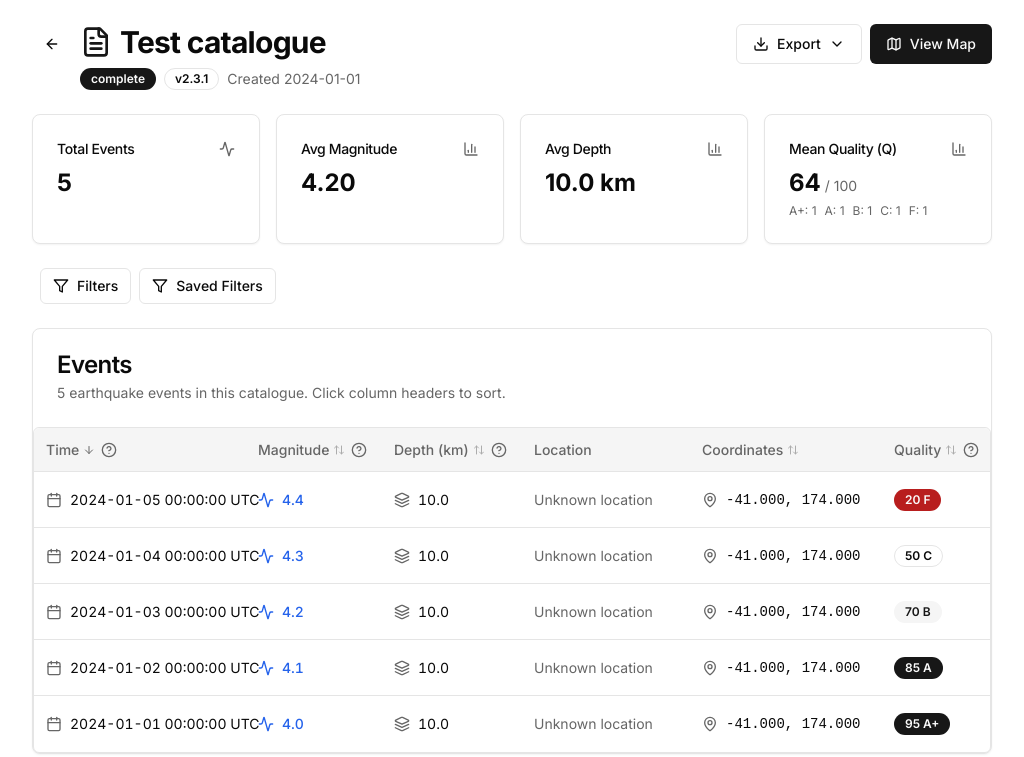
Test: FEATURE: minQuality filter narrows the event table › applying "Minimum Quality Score" hides events below the threshold
Expected: the text "Test catalogue" is shown, [120,24,326,60]
Expected: the heading "Mean Quality (Q)" is shown, [789,139,897,159]
Click the button "Filters".
click(86, 286)  # box [40,268,131,304]
(page scrolled)
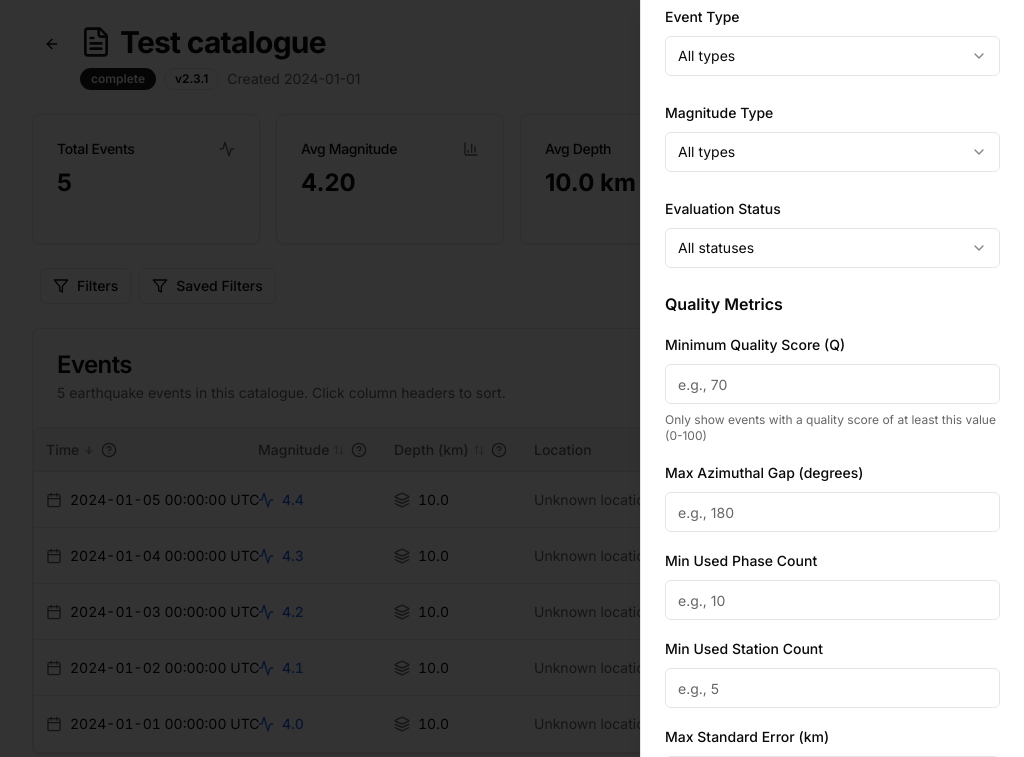
Type "60" into the number field labelled "Minimum Quality Score (Q)".
click(832, 384); type("60")  # box [665,364,1000,404]
(page scrolled)
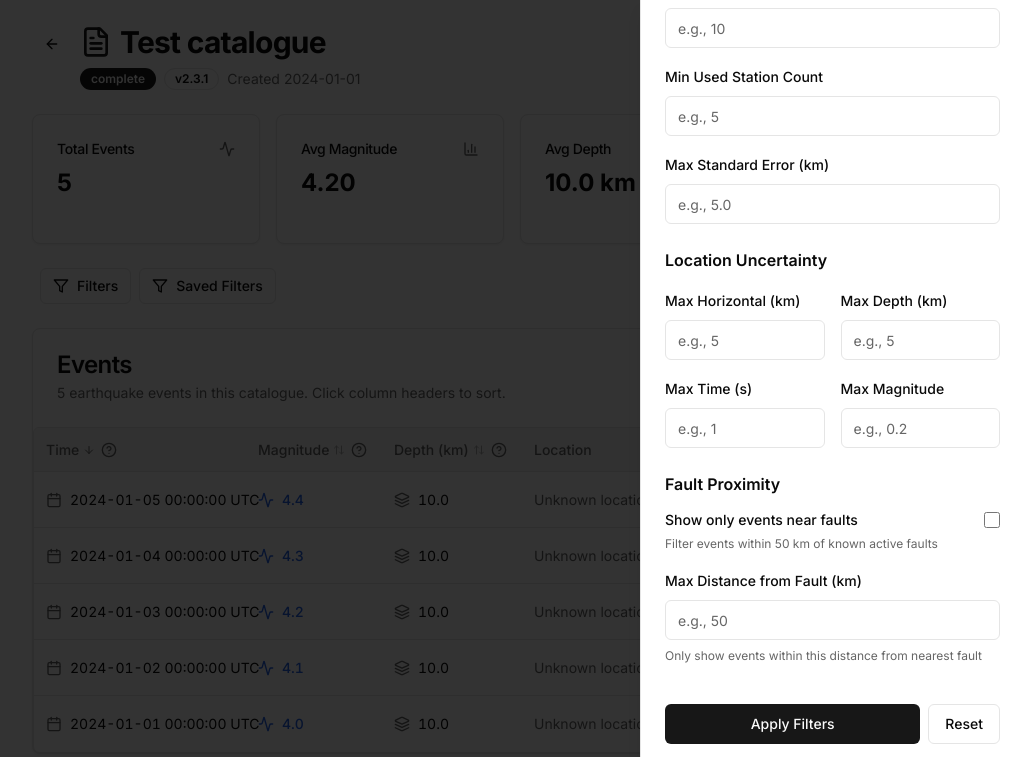
Click the button "Apply Filters".
click(793, 724)  # box [665,704,920,744]
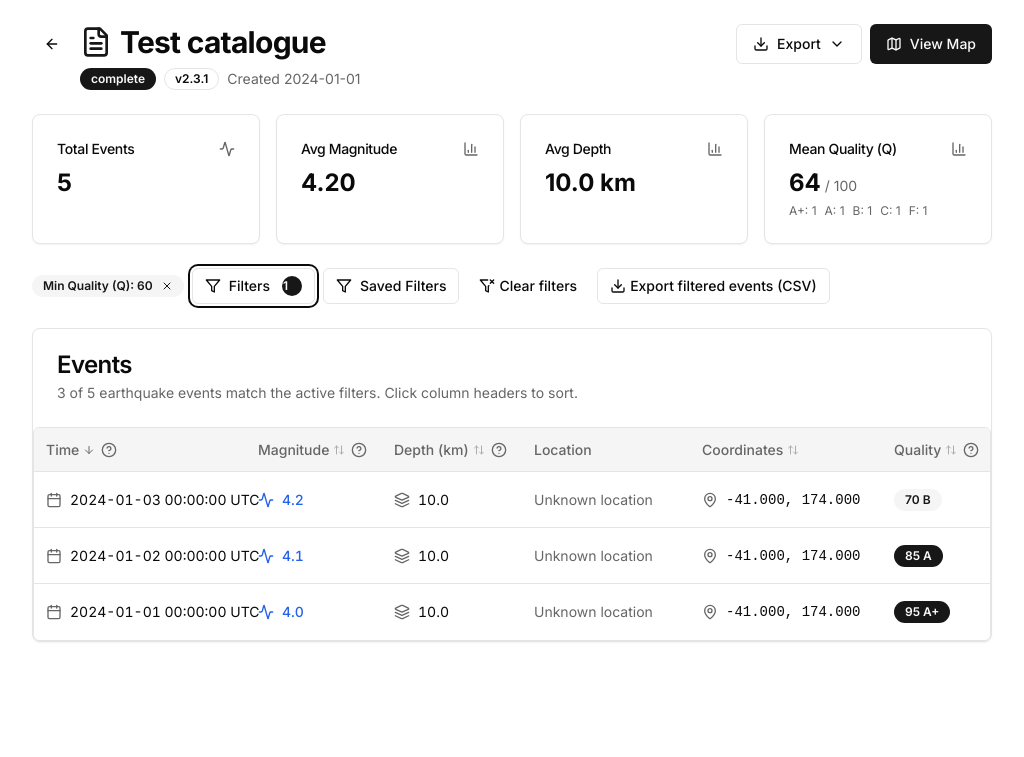
Expected: the text "3 of 5 earthquake events match" is shown, [57,384,578,401]
Expected: the text "50 C" is gone
Expected: the text "20 F" is gone
